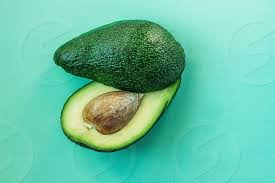aguacate: (45, 10, 187, 159)
